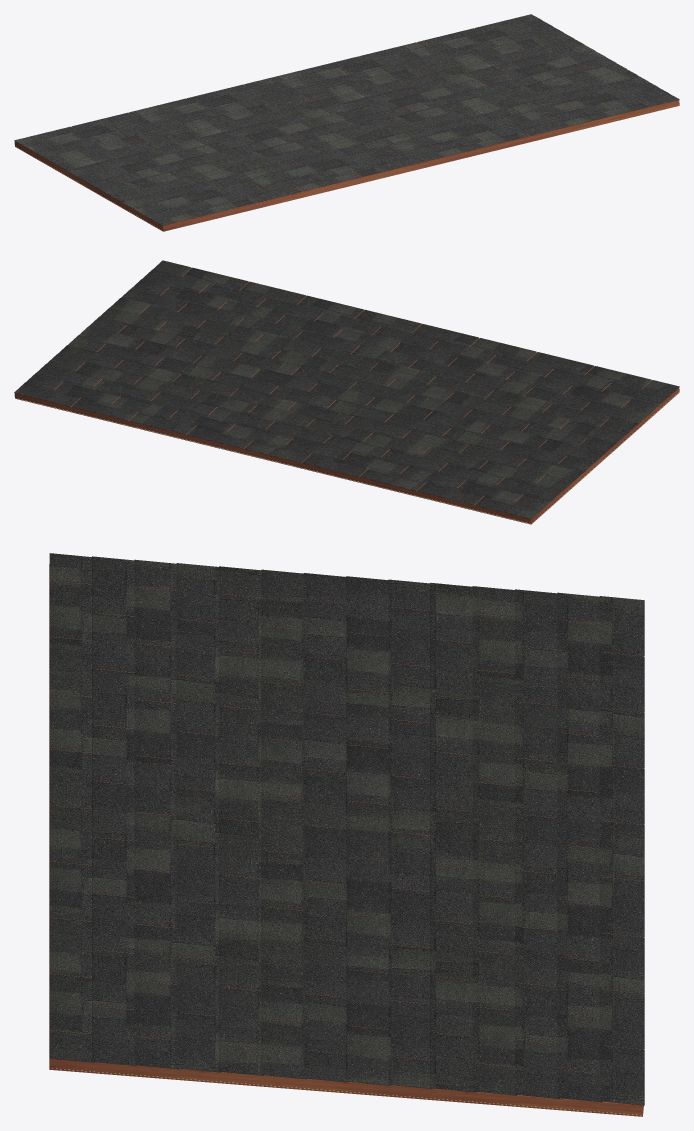
Rendered from Urban Garage.obj.
3 renders of one model, top to bottom at view 1: azimuth 30°, elevation 25°; view 2: azimuth 150°, elevation 25°; view 3: azimuth 270°, elevation 25°, orthographic. The views are drawn at different scales.
Visible parts, largest first — view 1: shingles, roof; view 2: shingles, roof; view 3: shingles, roof.
Part boxes in pixels (left/top/right/bottom): shingles: left=14, top=14, right=679, bottom=225; roof: left=14, top=27, right=679, bottom=231; shingles: left=14, top=260, right=679, bottom=518; roof: left=14, top=268, right=679, bottom=524; shingles: left=49, top=553, right=644, bottom=1105; roof: left=49, top=564, right=643, bottom=1116.
Bounding box in the file's own units: 288 × 15.82 × 144.
Materials: 3 (2 with a texture image).
